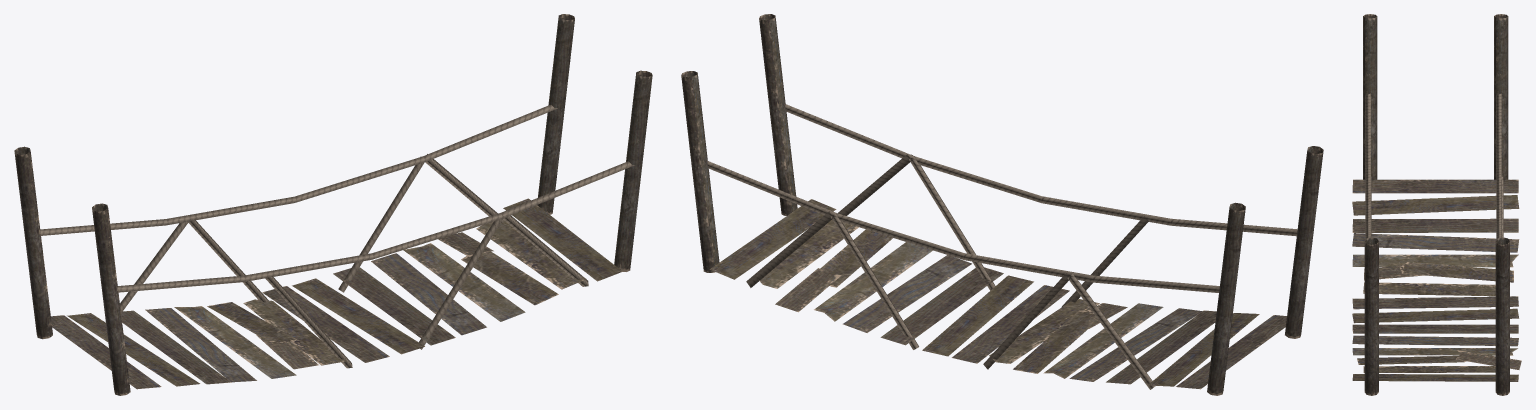
The model's file is Scaffolding_BridgeTiny.fbx.
The picture shows the model from 3 angles, left to right: view 1: azimuth 30°, elevation 25°; view 2: azimuth 150°, elevation 25°; view 3: azimuth 270°, elevation 25°; orthographic projection. The views are drawn at different scales.
Parts seen in each view (by area): view 1: CDTMesh_Scaffolding_BridgeTiny_LOD; view 2: CDTMesh_Scaffolding_BridgeTiny_LOD; view 3: CDTMesh_Scaffolding_BridgeTiny_LOD.
Boxes of the visible parts, x1,y1,x2,y2 form: CDTMesh_Scaffolding_BridgeTiny_LOD: [14, 14, 652, 395]; CDTMesh_Scaffolding_BridgeTiny_LOD: [681, 14, 1323, 395]; CDTMesh_Scaffolding_BridgeTiny_LOD: [1352, 14, 1521, 395].
Size of the model in its own units: 11.1 by 4.22 by 3.45.
